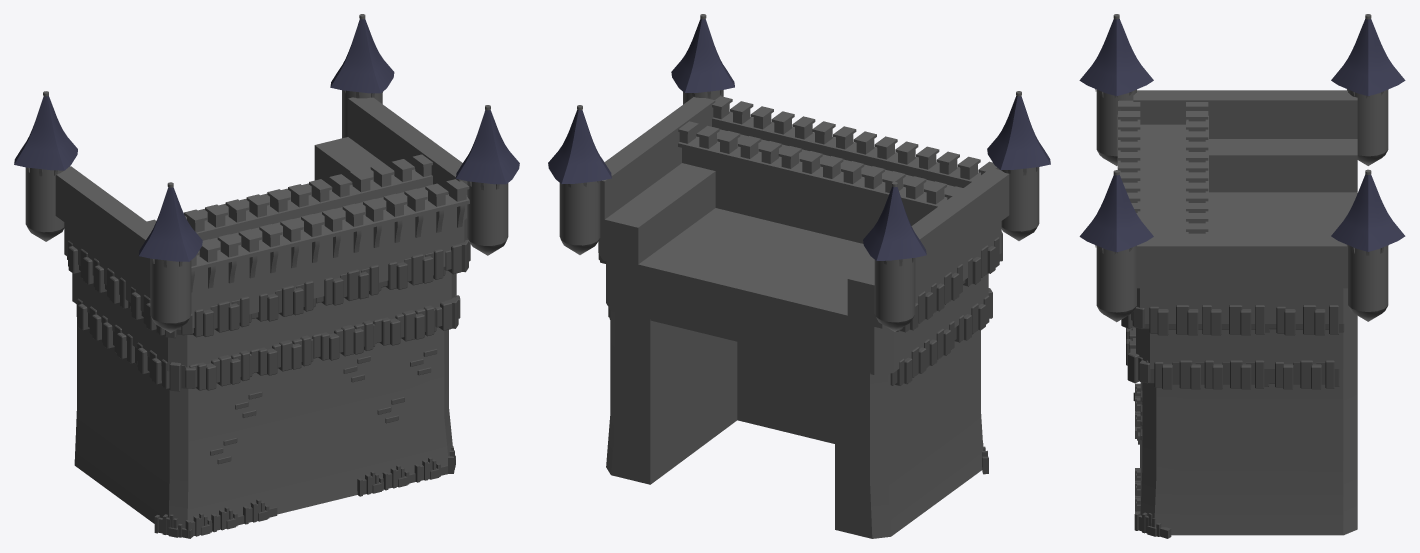
File: Castle_BastionA_Medium.fbx
The picture shows the model from 3 angles, left to right: view 1: azimuth 30°, elevation 25°; view 2: azimuth 150°, elevation 25°; view 3: azimuth 270°, elevation 25°; orthographic projection.
Parts seen in each view (by area): view 1: Castle_BastionA_Medium; view 2: Castle_BastionA_Medium; view 3: Castle_BastionA_Medium.
Boxes of the visible parts, <box> form: Castle_BastionA_Medium: <box>14,14,519,538</box>; Castle_BastionA_Medium: <box>548,14,1050,538</box>; Castle_BastionA_Medium: <box>1079,14,1405,538</box>.
Bounding box in the file's own units: 824 × 761 × 605.
